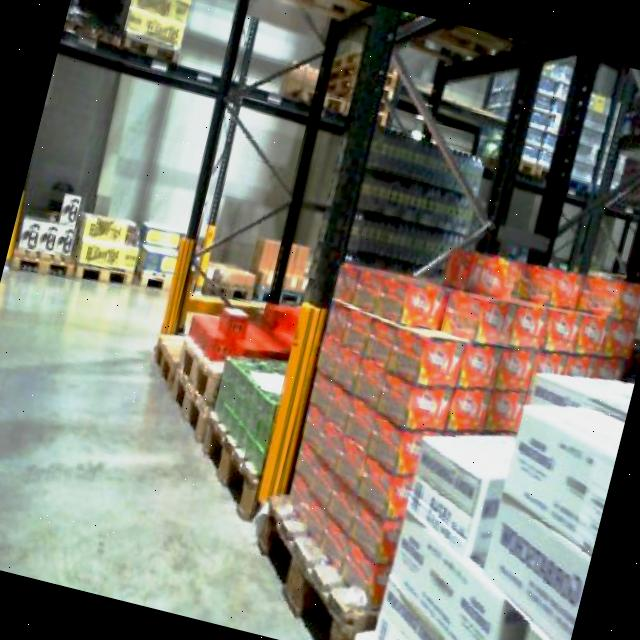ground: (0, 235, 428, 640)
pallet: (89, 0, 640, 640), (235, 205, 640, 640), (353, 324, 636, 640), (121, 267, 332, 526), (4, 174, 316, 342), (233, 486, 403, 640), (5, 186, 192, 309), (67, 207, 148, 290), (245, 232, 316, 309), (4, 185, 31, 273)
